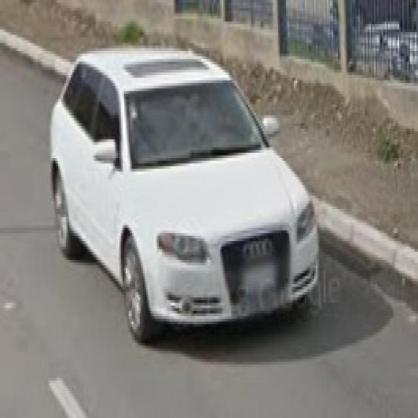car: (46, 49, 324, 345)
